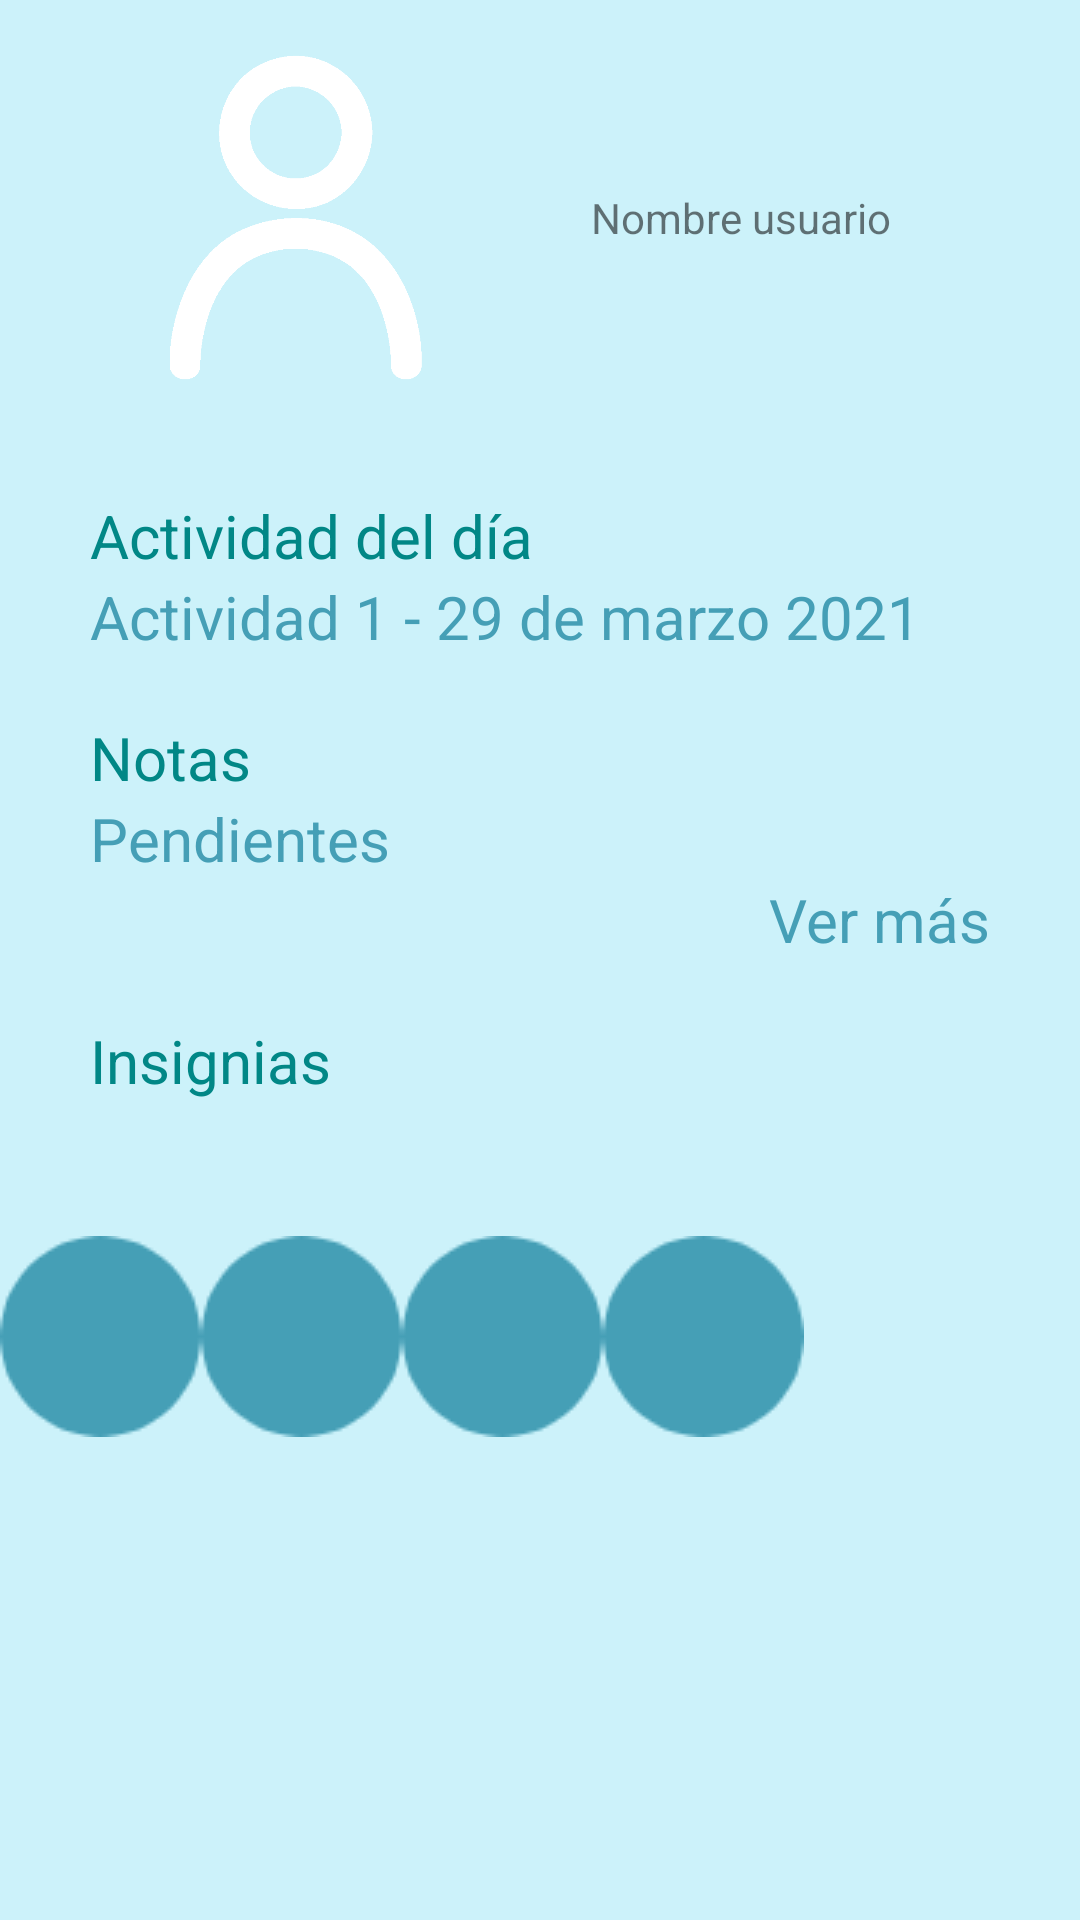

Screen size 1080*1920. Icon name, then its center in pixels as point (x, y):
usuario blanco: point (296, 217)
